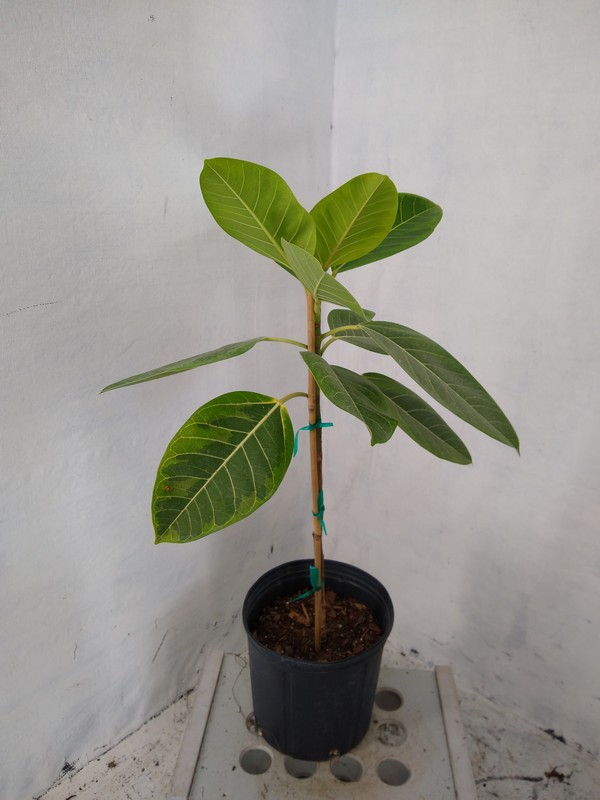plant: (100, 156, 525, 650)
pot: (240, 556, 395, 764)
